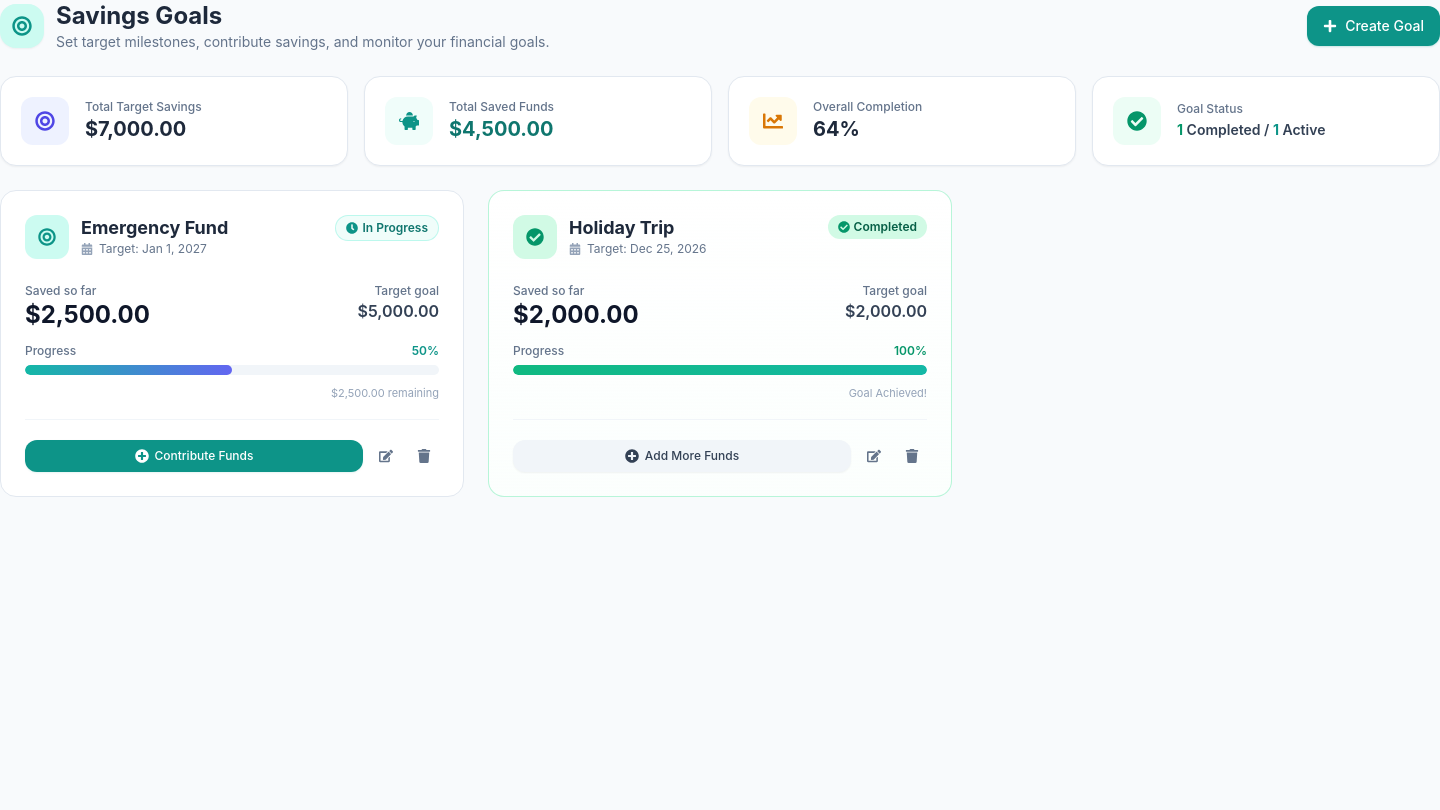
Test: GoalsPage Component › opens GoalModal in Create mode when Create Goal button is clicked
The image size is (1440, 810).
Click the button with test id "create-goal-cta-button": (1374, 26) [1307,6,1439,46]
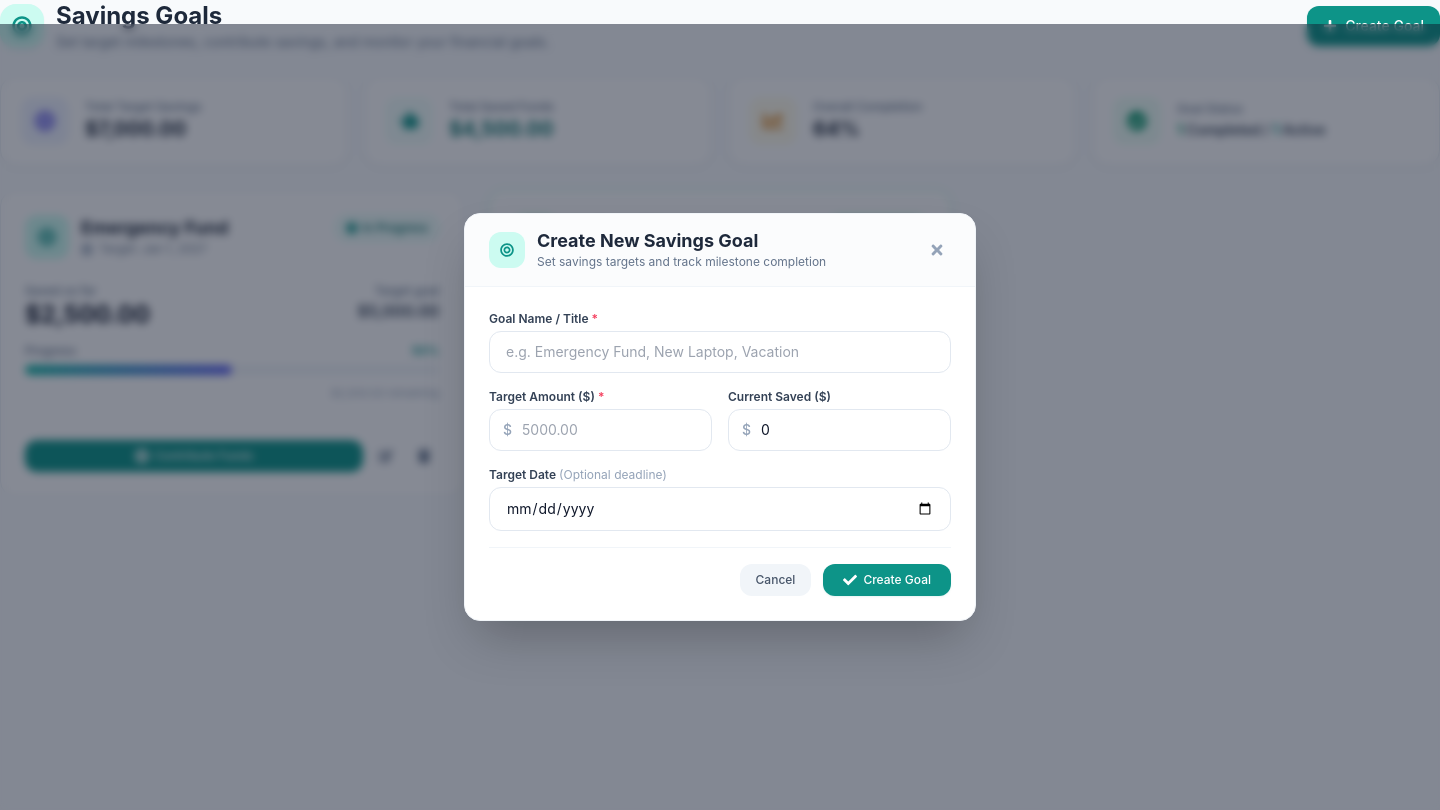
Expected: the dialog with test id "goal-modal" is shown
Expected: the heading "Create New Savings Goal" is shown, [537,230,758,251]
